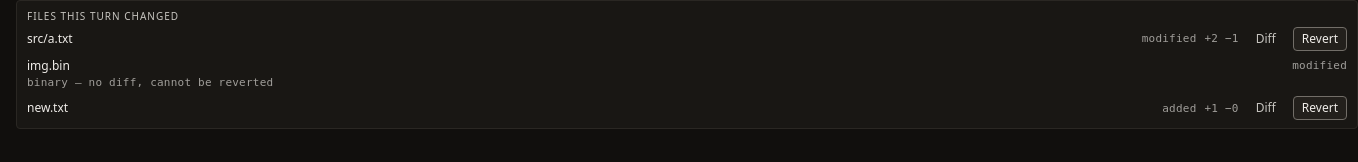
TurnDiffPanel › shows why a revert was refused
Click the button with aria-label "Revert new.txt" at (1320, 108), box [1293,96,1347,120]
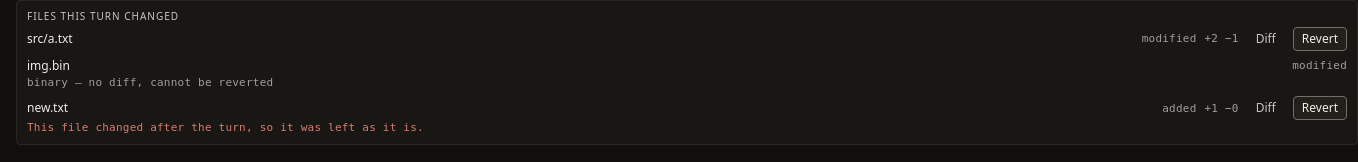
Result: the message shows "changed after the turn" at [27,121,424,134]
